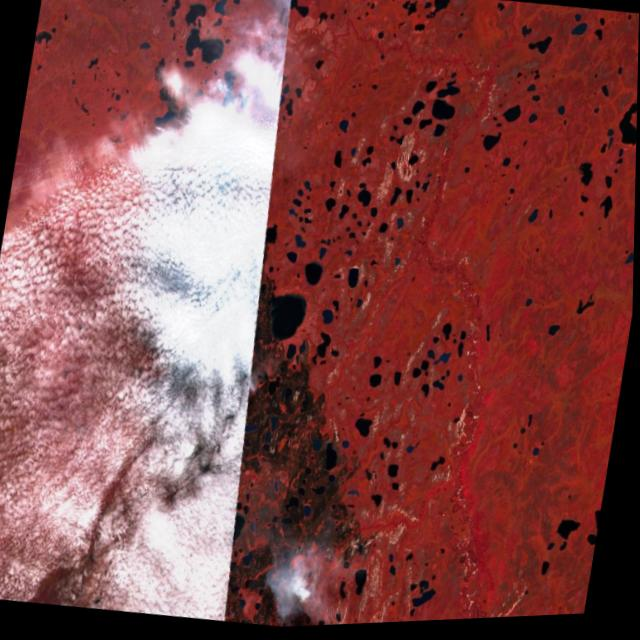fire: (45, 40, 405, 638)
